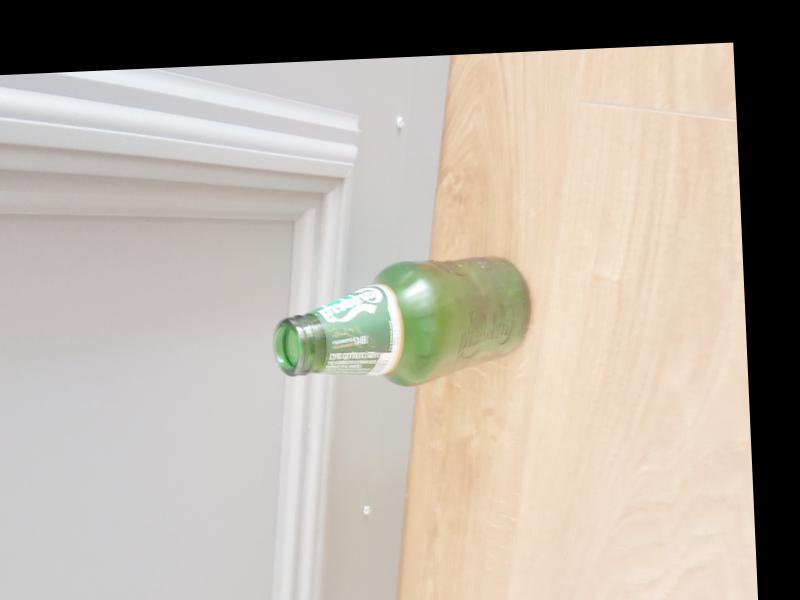Beer: (270, 253, 535, 393)
